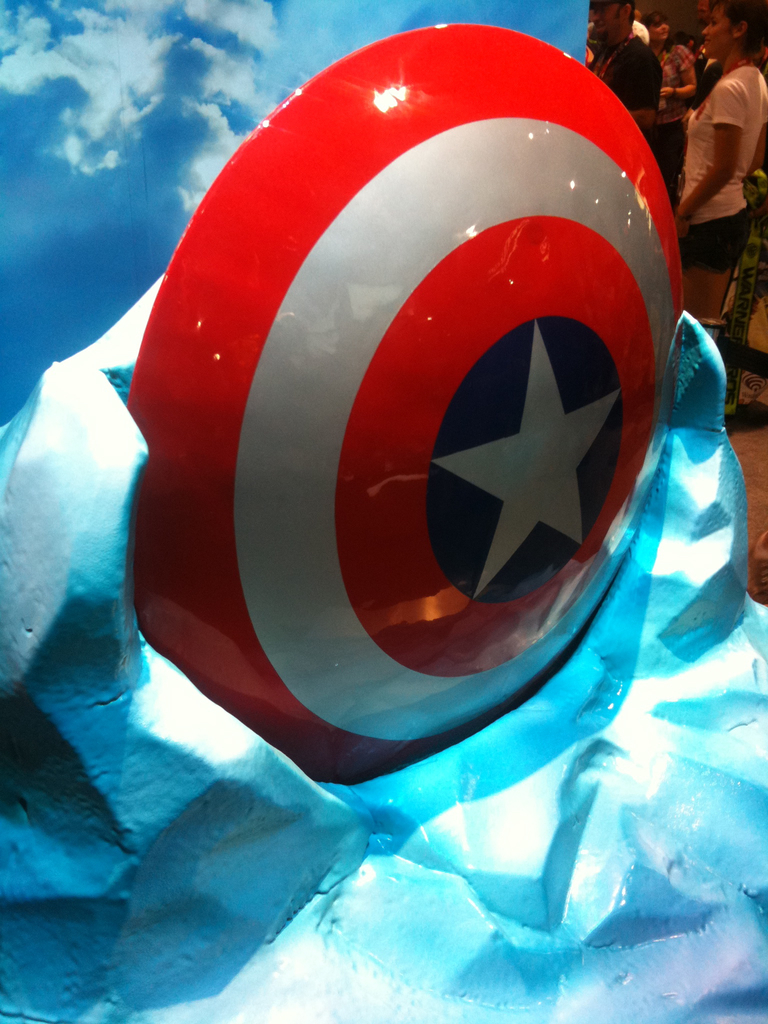person: (583, 0, 663, 155)
